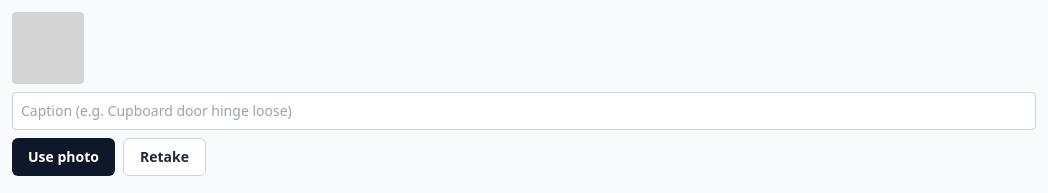
Test: ItemPhotos › queues a photo locally when the network is unavailable
This screenshot has width=1048, height=193.
Earlier steps of the test are not shown.
What coordinates should you click on to do the following:
click the button "Use photo"
I would click on:
 (63, 157)
Its box is [12,138,115,176].
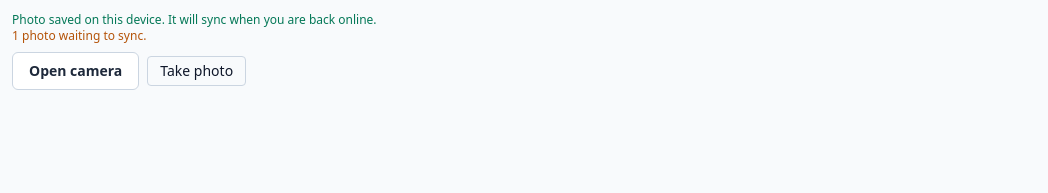
Check: the text "Photo saved on this device. It will sync when you are back online." is shown, box [12,11,377,28]
Check: the text "1 photo waiting to sync." is shown, box [12,27,146,44]
